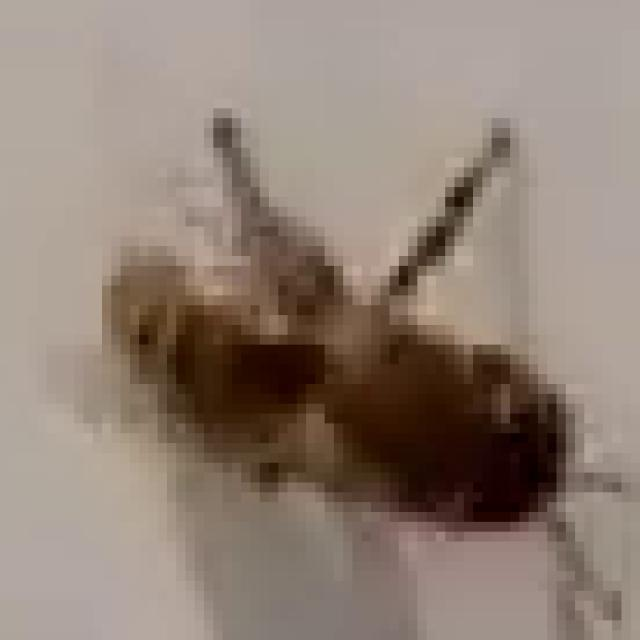honeybee: (104, 132, 562, 528)
